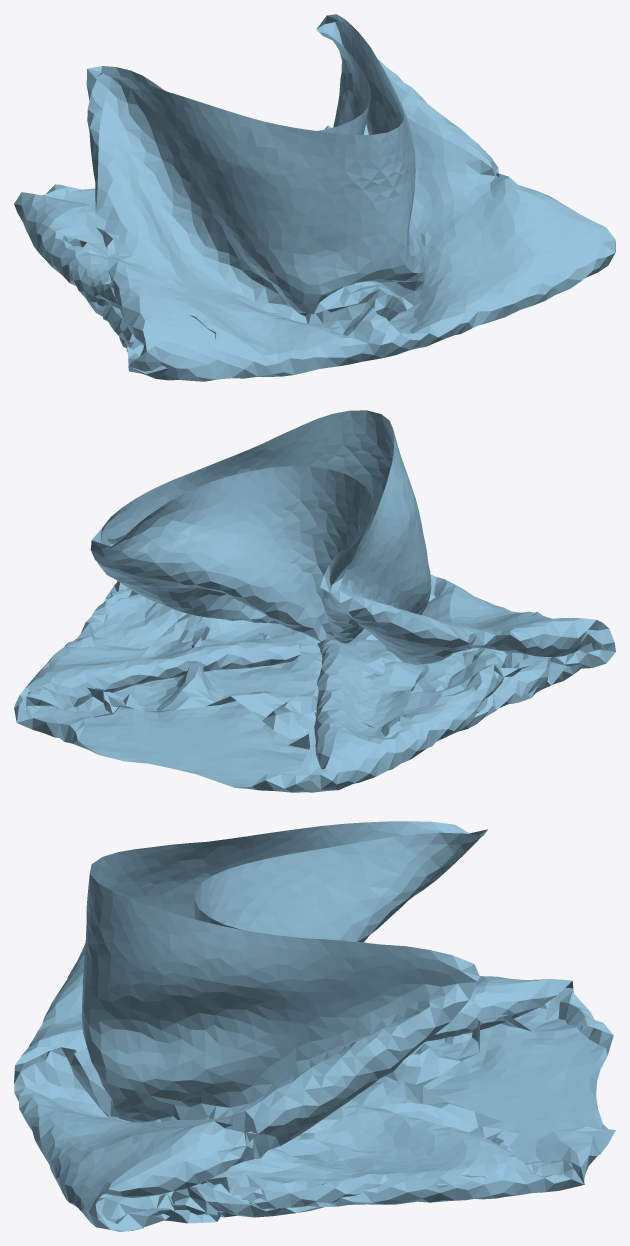
The model's file is frame_18.glb.
The picture shows the model from 3 angles, top to bottom: view 1: azimuth 30°, elevation 25°; view 2: azimuth 150°, elevation 25°; view 3: azimuth 270°, elevation 25°; orthographic projection. The views are drawn at different scales.
Visible parts, largest first — view 1: frame_18.obj; view 2: frame_18.obj; view 3: frame_18.obj.
Boxes of the visible parts, <box> form: frame_18.obj: <box>14,14,615,381</box>; frame_18.obj: <box>14,410,615,792</box>; frame_18.obj: <box>14,821,615,1231</box>.
Size of the model in its own units: 1.11 by 0.4496 by 1.01.
